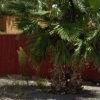Tree: (15, 0, 100, 72)
